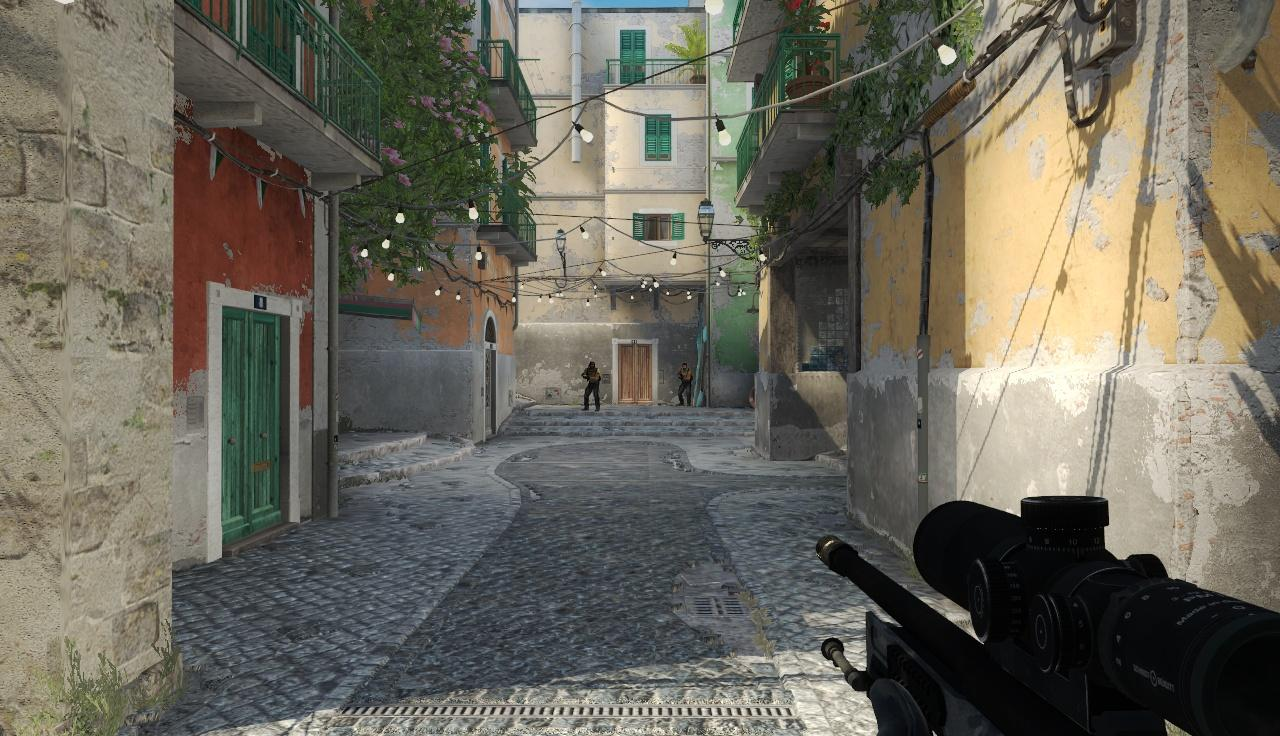sniper: (821, 495, 1280, 736)
tt: (582, 360, 599, 413), (677, 363, 692, 405)
tthead: (589, 360, 596, 369), (681, 363, 687, 369)
